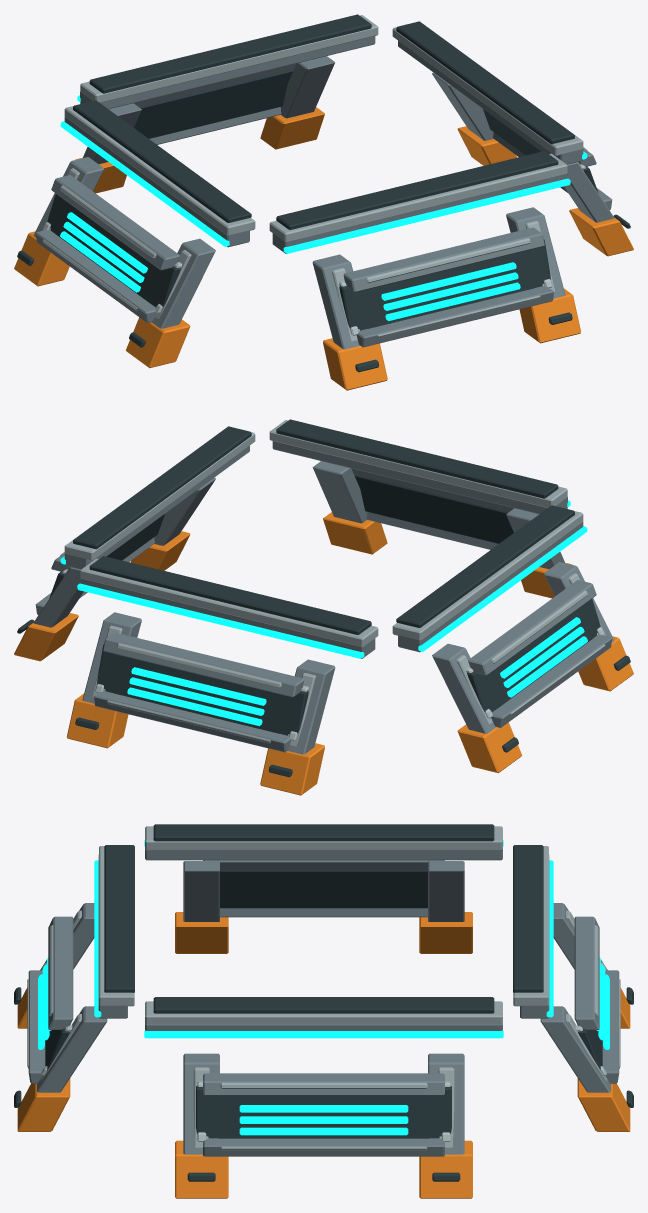
File: wsc-prop-053-e02-dock-face.glb
3 renders of one model, top to bottom at view 1: azimuth 30°, elevation 25°; view 2: azimuth 150°, elevation 25°; view 3: azimuth 270°, elevation 25°, orthographic. The views are drawn at different scales.
Parts seen in each view (by area): view 1: Frame 1, Frame 4, Crown 3, Crown 1, Frame 3, Crown 4, Crown 2, Bands 1, Feet 1, Frame 2, Feet 4, Bands 4 (+2 smaller); view 2: Frame 3, Frame 4, Crown 1, Crown 3, Frame 1, Crown 4, Crown 2, Bands 3, Feet 3, Frame 2, Feet 4, Bands 4 (+2 smaller); view 3: Frame 2, Frame 4, Crown 4, Crown 2, Frame 1, Frame 3, Bands 2, Crown 1, Crown 3, Feet 2, Feet 4, Feet 1 (+3 smaller).
Boxes of the visible parts, x1=… form: Frame 1: x1=312, y1=207, x2=565, y2=349; Frame 4: x1=33, y1=157, x2=215, y2=328; Crown 3: x1=80, y1=14, x2=378, y2=109; Crown 1: x1=269, y1=151, x2=567, y2=253; Frame 3: x1=83, y1=56, x2=335, y2=164; Crown 4: x1=64, y1=100, x2=255, y2=247; Crown 2: x1=392, y1=21, x2=583, y2=164; Bands 1: x1=283, y1=178, x2=570, y2=321; Feet 1: x1=323, y1=288, x2=580, y2=390; Frame 2: x1=432, y1=72, x2=614, y2=222; Feet 4: x1=14, y1=231, x2=190, y2=368; Bands 4: x1=60, y1=121, x2=229, y2=292; Frame 3: x1=82, y1=612, x2=335, y2=754; Frame 4: x1=432, y1=562, x2=614, y2=733; Crown 1: x1=269, y1=419, x2=567, y2=514; Crown 3: x1=80, y1=556, x2=378, y2=658; Frame 1: x1=312, y1=461, x2=564, y2=569; Crown 4: x1=392, y1=505, x2=583, y2=652; Crown 2: x1=64, y1=426, x2=255, y2=569; Bands 3: x1=77, y1=583, x2=364, y2=726; Feet 3: x1=67, y1=693, x2=324, y2=795; Frame 2: x1=33, y1=477, x2=215, y2=627; Feet 4: x1=457, y1=636, x2=633, y2=773; Bands 4: x1=418, y1=526, x2=587, y2=697; Frame 2: x1=183, y1=1053, x2=464, y2=1156; Frame 4: x1=183, y1=860, x2=464, y2=921; Crown 4: x1=145, y1=824, x2=502, y2=860; Crown 2: x1=145, y1=997, x2=502, y2=1030; Frame 1: x1=27, y1=903, x2=107, y2=1092; Frame 3: x1=540, y1=903, x2=620, y2=1092; Bands 2: x1=144, y1=1030, x2=503, y2=1135; Crown 1: x1=98, y1=845, x2=134, y2=1018; Crown 3: x1=513, y1=845, x2=549, y2=1018; Feet 2: x1=175, y1=1140, x2=472, y2=1198; Feet 4: x1=175, y1=912, x2=472, y2=953; Feet 1: x1=14, y1=987, x2=70, y2=1131.
Size of the model in its own units: 2.13 by 0.581 by 2.13.
